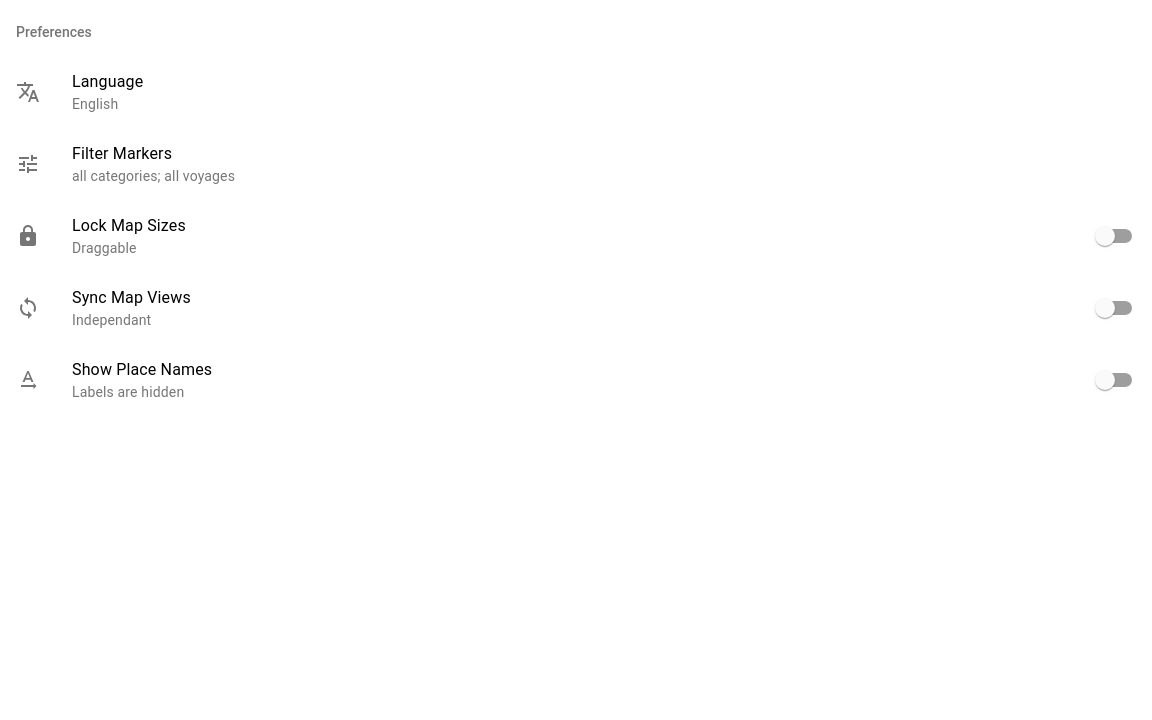
when a language option is selected › Updates the locale via context and closes the language dialog
The width and height of the screenshot is (1152, 720).
What coordinates should you click on to do the following:
click the text "Language"
I would click on:
 (108, 82)
Its box is x1=72 y1=72 x2=143 y2=91.
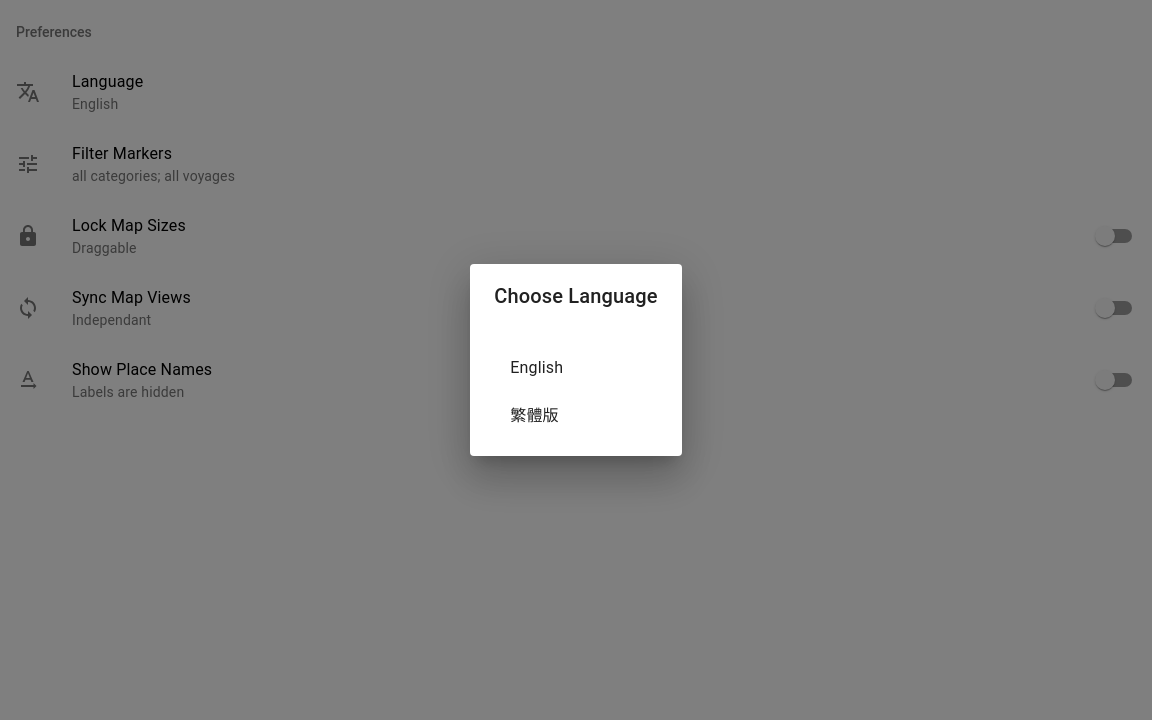
What coordinates should you click on to do the following:
click the button "繁體版"
I would click on:
 (535, 416)
Its box is x1=510 y1=406 x2=559 y2=425.
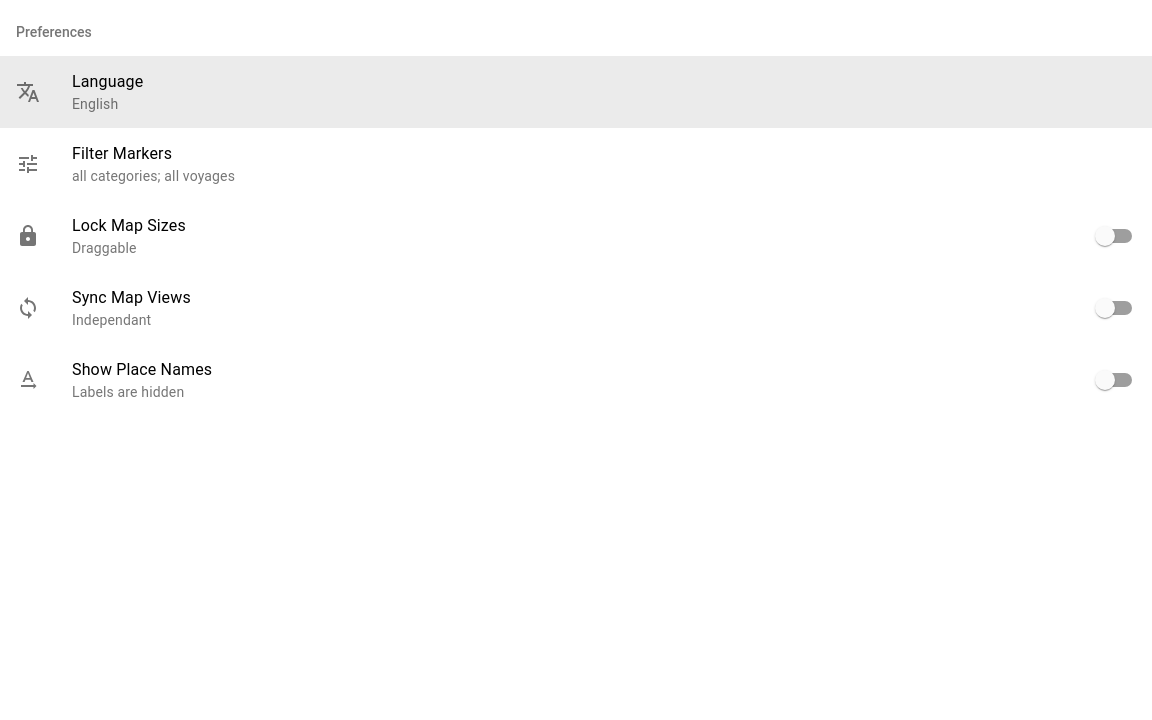
Check: the heading "Choose Language" is gone
